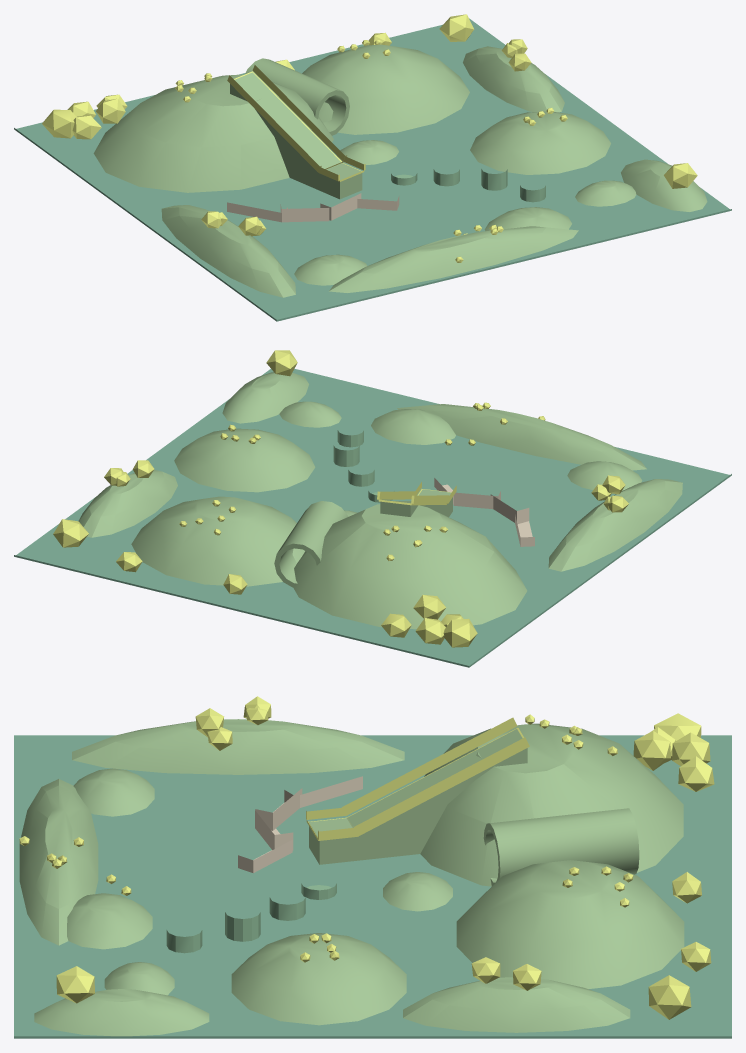
3 renders of one model, top to bottom at view 1: azimuth 30°, elevation 25°; view 2: azimuth 150°, elevation 25°; view 3: azimuth 270°, elevation 25°, orthographic. The views are drawn at different scales.
Visible parts, largest first — view 1: Terrain, Safety_Pad, Foliage, Mini_Slide, Balance_Path, Stepping_Pods; view 2: Terrain, Safety_Pad, Foliage, Balance_Path, Stepping_Pods, Mini_Slide; view 3: Terrain, Safety_Pad, Foliage, Mini_Slide, Balance_Path, Stepping_Pods.
Boxes of the visible parts, x1=… form: Terrain: x1=93, y1=44, x2=707, y2=297; Safety_Pad: x1=14, y1=18, x2=731, y2=321; Foliage: x1=42, y1=14, x2=697, y2=262; Mini_Slide: x1=227, y1=65, x2=365, y2=181; Balance_Path: x1=227, y1=193, x2=399, y2=222; Stepping_Pods: x1=391, y1=169, x2=545, y2=202; Terrain: x1=78, y1=372, x2=682, y2=629; Safety_Pad: x1=14, y1=368, x2=731, y2=667; Foliage: x1=53, y1=350, x2=628, y2=647; Balance_Path: x1=434, y1=478, x2=534, y2=546; Stepping_Pods: x1=333, y1=430, x2=394, y2=502; Mini_Slide: x1=377, y1=482, x2=456, y2=505; Terrain: x1=19, y1=719, x2=684, y2=1036; Safety_Pad: x1=14, y1=735, x2=731, y2=1038; Foliage: x1=19, y1=696, x2=714, y2=1019; Mini_Slide: x1=306, y1=717, x2=529, y2=840; Balance_Path: x1=238, y1=776, x2=362, y2=873; Stepping_Pods: x1=166, y1=883, x2=336, y2=953.
Size of what is drawn, in the model's own units: 8 by 1.35 by 8.
